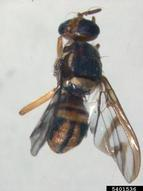Fruit fly: (32, 10, 139, 175)
